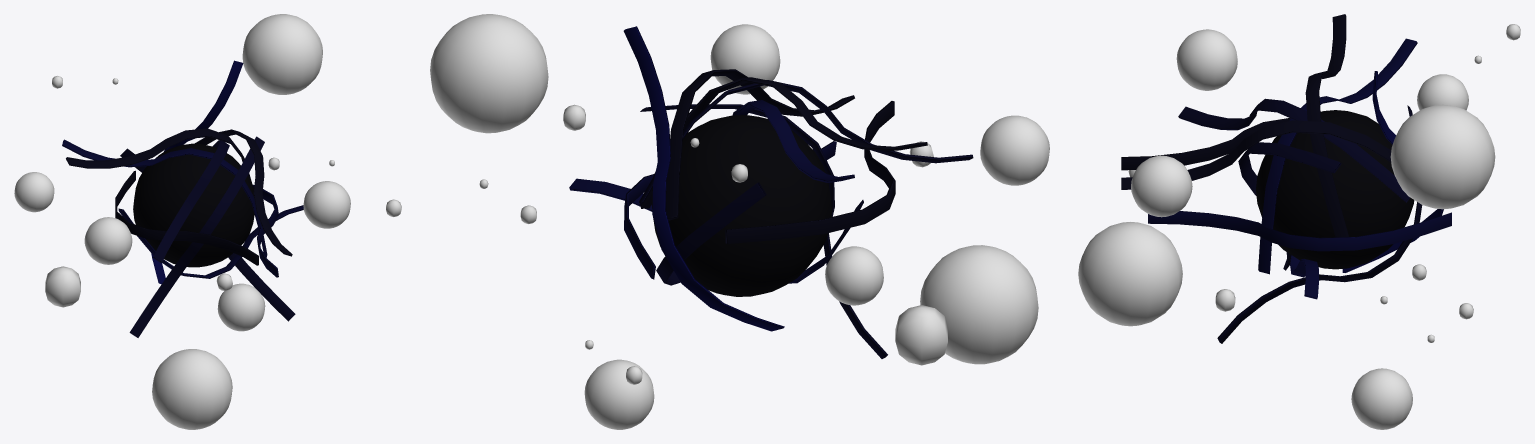
The model's file is Black_Hole.fbx.
3 renders of one model, left to right at view 1: azimuth 30°, elevation 25°; view 2: azimuth 150°, elevation 25°; view 3: azimuth 270°, elevation 25°, orthographic. The views are drawn at different scales.
Parts seen in each view (by area): view 1: pPlane11; view 2: pPlane11; view 3: pPlane11.
Boxes of the visible parts, <box> form: pPlane11: <box>14,14,401,429</box>; pPlane11: <box>430,14,1049,429</box>; pPlane11: <box>1078,14,1520,429</box>.
Size of the model in its own units: 38.6 by 31.92 by 35.73.
